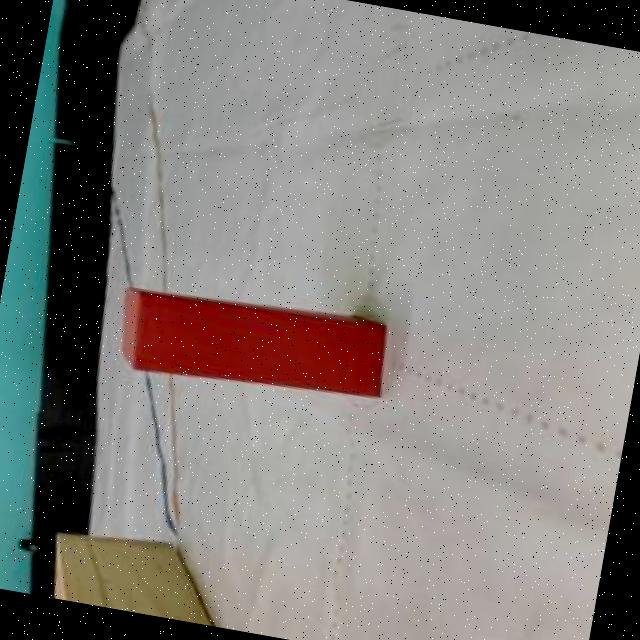redbox: (110, 277, 392, 412)
